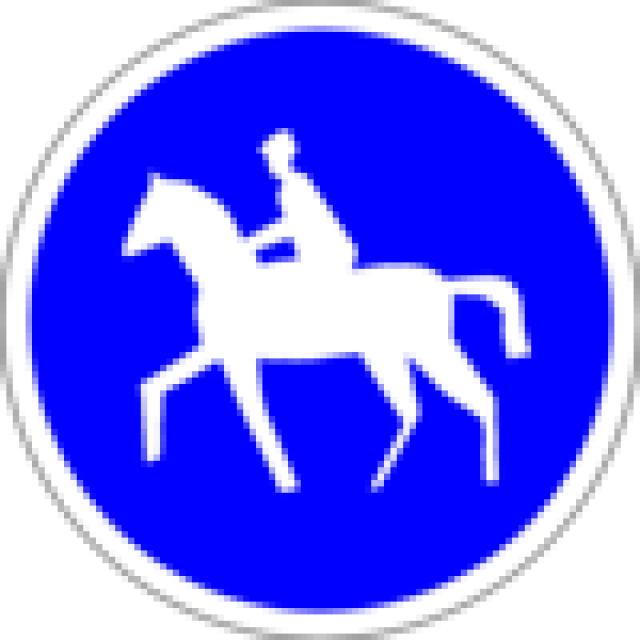obligation: (0, 0, 637, 637)
